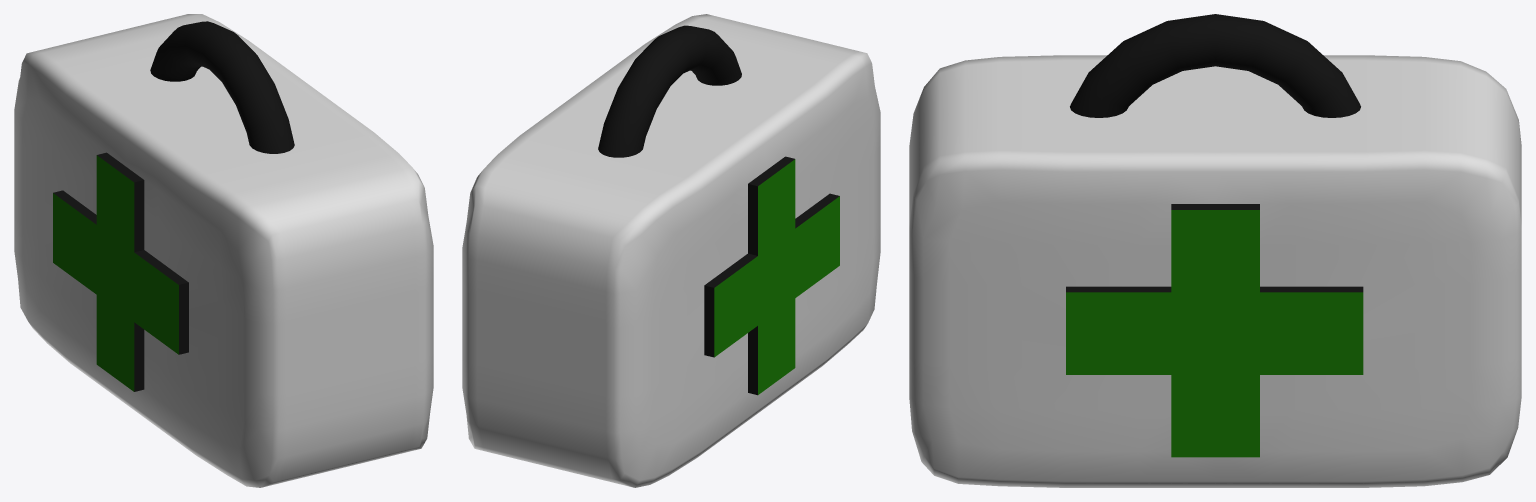
The model's file is HealthKit.fbx.
The picture shows the model from 3 angles, left to right: view 1: azimuth 30°, elevation 25°; view 2: azimuth 150°, elevation 25°; view 3: azimuth 270°, elevation 25°; orthographic projection. The views are drawn at different scales.
Visible parts, largest first — view 1: pCube2; view 2: pCube2; view 3: pCube2.
Part boxes in pixels (x1,y1,x2,y2): pCube2: (14,14,433,487); pCube2: (462,14,880,487); pCube2: (909,14,1521,487).
Bounding box in the file's own units: 63.61 × 101 × 133.
